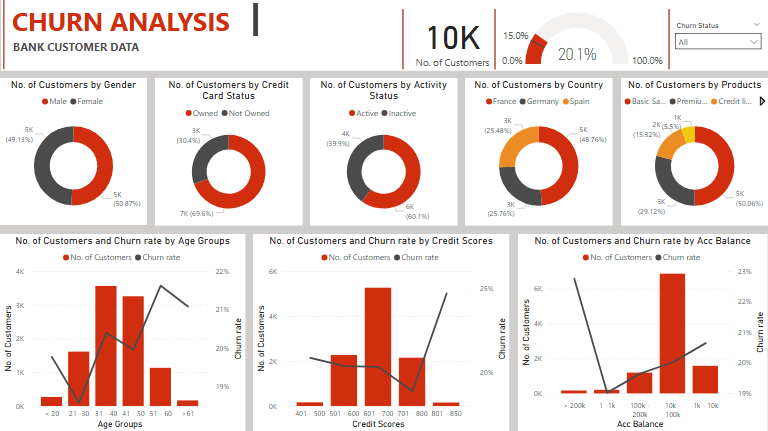

Layout of this report page (visuals, bound fields, positions):
{"tool":"powerbi","page":{"name":"Page 1","canvas":[1280,720],"ordinal":0},"visuals":[{"type":"shape","box":[1.5,0,1279.1,117.9],"z":0},{"type":"card","fields":{"Values":["Customer Data.No. of Customers"]},"box":[682.1,11.4,144.8,107.5],"z":1000},{"type":"donutChart","fields":{"Category":["Customer Data.Gender"],"Y":["Customer Data.Customers"]},"box":[0,130.3,245,245],"z":2000},{"type":"donutChart","fields":{"Y":["Customer Data.Customers"],"Category":["Customer Data.Activity Status"]},"box":[516.8,129.9,245.7,245.7],"z":3000},{"type":"donutChart","fields":{"Y":["Customer Data.Customers"],"Category":["Customer Data.Credit Card Status"]},"box":[258,129.9,245.7,245.7],"z":4000},{"type":"donutChart","fields":{"Y":["Customer Data.Customers"],"Category":["Customer Data.Country"]},"box":[775.5,129.9,245.7,245.7],"z":5000},{"type":"donutChart","fields":{"Y":["Customer Data.Customers"],"Category":["Customer Data.Products"]},"box":[1034.3,129.9,245.7,245.7],"z":6000},{"type":"lineClusteredColumnComboChart","fields":{"Category":["Age Groups.Age Groups"],"Y":["Customer Data.Customers"],"Y2":["Customer Data.Churn rate"]},"box":[0,390,408.6,330],"z":7000},{"type":"lineClusteredColumnComboChart","fields":{"Y":["Customer Data.Customers"],"Y2":["Customer Data.Churn rate"],"Category":["Credit Score Groups.Credit Scores"]},"box":[422.1,390,427.1,330],"z":8000},{"type":"lineClusteredColumnComboChart","fields":{"Y":["Customer Data.Customers"],"Y2":["Customer Data.Churn rate"],"Category":["Acc Balance Groups.Acc Balance"]},"box":[862.9,390,415.7,330],"z":9000},{"type":"slicer","fields":{"Values":["Customer Data.Churn Status"]},"box":[1114.9,29.4,164.2,71.6],"z":10000},{"type":"gauge","fields":{"Y":["Customer Data.Churn rate"],"MinValue":["Min(Customer Data.Min Churn Rate )"],"MaxValue":["Max(Customer Data.Max Churn Rate)"],"TargetValue":["Max(Customer Data.Target Churn Rate)"]},"box":[827.1,5.9,287.1,118.6],"z":11000},{"type":"textbox","box":[15.7,0,420,65.7],"z":12000},{"type":"textbox","box":[16.4,59.7,249.3,37.3],"z":13000},{"type":"shape","box":[651.4,14.5,40,101.4],"z":14000},{"type":"shape","box":[805.7,14.5,40,101.4],"z":15000},{"type":"shape","box":[1094.3,14.5,40,101.4],"z":16000},{"type":"shape","box":[0,0,12.9,115.7],"z":17000}]}

Visuals, with their boxes in screenshot pixels (x1, y1, x2, y2), scaled from the page's 1280x720 canvas onto the 768x431 screenshot:
shape: 1 0 767 71
card - Customer Data.No. of Customers: 409 7 496 71
donutChart - Customer Data.Gender x Customer Data.Customers: 0 78 147 225
donutChart - Customer Data.Customers x Customer Data.Activity Status: 310 78 458 225
donutChart - Customer Data.Customers x Customer Data.Credit Card Status: 155 78 302 225
donutChart - Customer Data.Customers x Customer Data.Country: 465 78 613 225
donutChart - Customer Data.Customers x Customer Data.Products: 621 78 767 225
lineClusteredColumnComboChart - Age Groups.Age Groups x Customer Data.Customers: 0 233 245 430
lineClusteredColumnComboChart - Customer Data.Customers x Customer Data.Churn rate: 253 233 510 430
lineClusteredColumnComboChart - Customer Data.Customers x Customer Data.Churn rate: 518 233 767 430
slicer - Customer Data.Churn Status: 669 18 767 60
gauge - Customer Data.Churn rate x Min(Customer Data.Min Churn Rate ): 496 4 669 75
textbox: 9 0 261 39
textbox: 10 36 159 58
shape: 391 9 415 69
shape: 483 9 507 69
shape: 657 9 681 69
shape: 0 0 8 69
